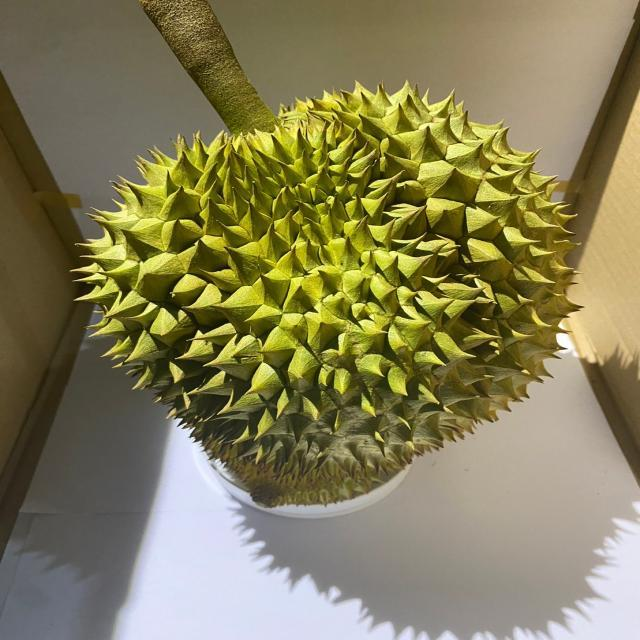immature: (73, 80, 590, 506)
